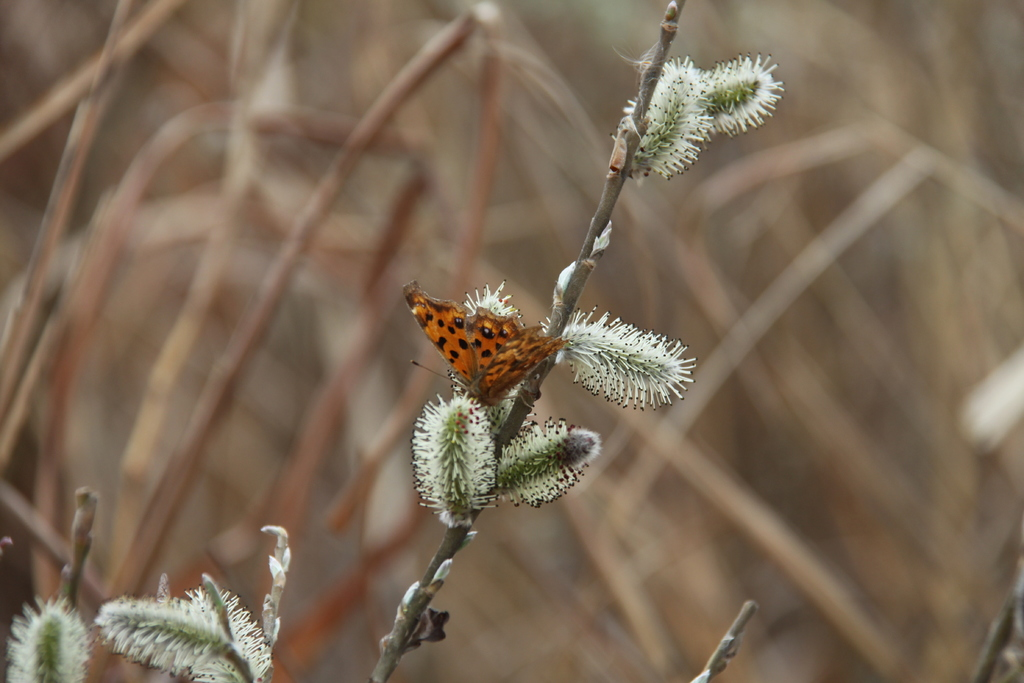Butterfly: (403, 276, 563, 389)
